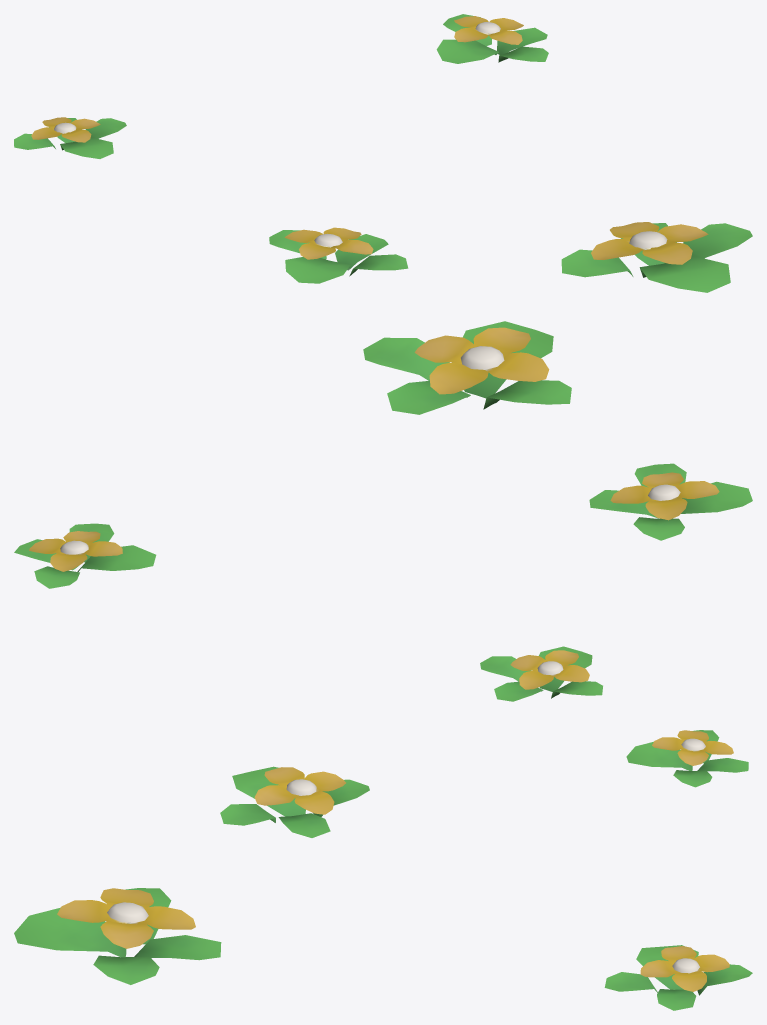
File: ground_grass_01.fbx
3 views of the same model, one above another, from view 1: azimuth 30°, elevation 25°; view 2: azimuth 150°, elevation 25°; view 3: azimuth 270°, elevation 25° (orthographic). The views are drawn at different scales.
Visible parts, largest first — view 1: ground_grass_01; view 2: ground_grass_01; view 3: ground_grass_01.
Part boxes in pixels (left/top/right/bottom): ground_grass_01: left=14, top=14, right=752, bottom=292; ground_grass_01: left=14, top=321, right=752, bottom=701; ground_grass_01: left=14, top=730, right=752, bottom=1010.
Bounding box in the file's own units: 490 × 37 × 556.
